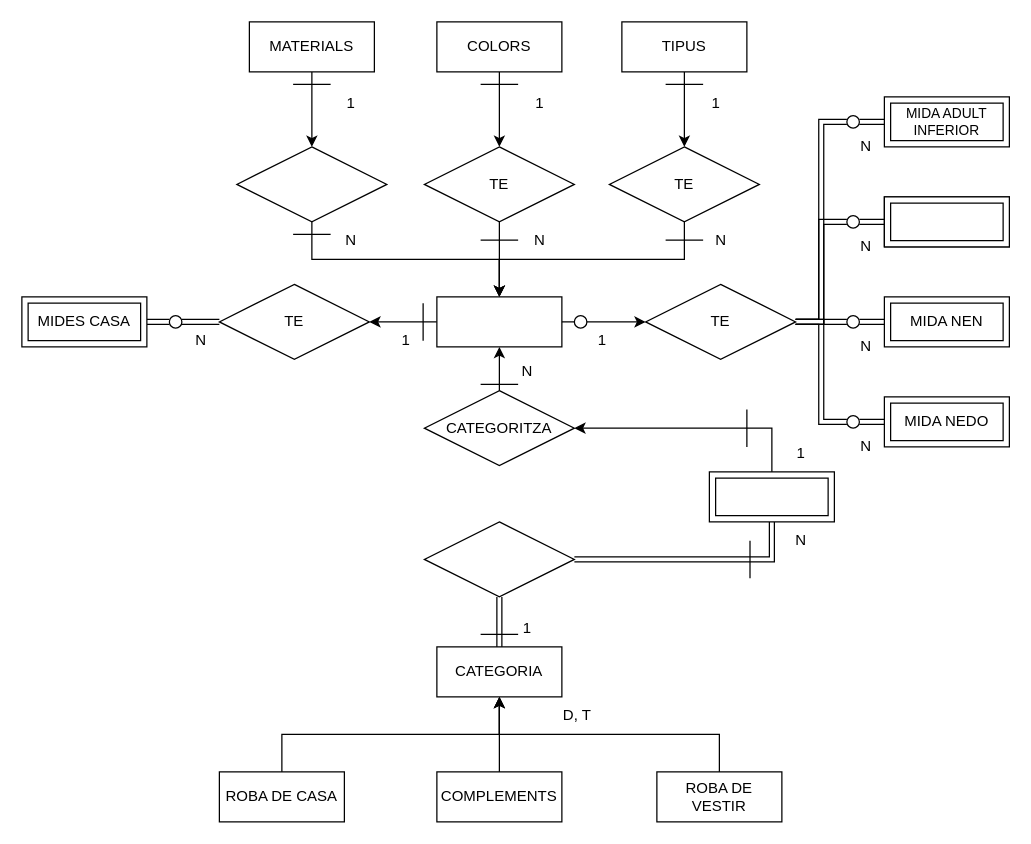
Image size: 1031x844. Some labels were removed from this diagram. Each missing label, with the box of its shape:
ARTICLE: (436, 296, 562, 347)
CLASSE: (708, 471, 834, 522)
DEPEN: (423, 521, 574, 597)
FABRIQUEN: (236, 146, 387, 222)
MIDA ADULT SUPERIOR: (883, 196, 1009, 247)
